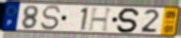1: (79, 7, 90, 32)
2: (140, 9, 161, 35)
8: (22, 4, 40, 30)
H: (87, 7, 115, 33)
S: (115, 7, 142, 34), (39, 5, 62, 32)
